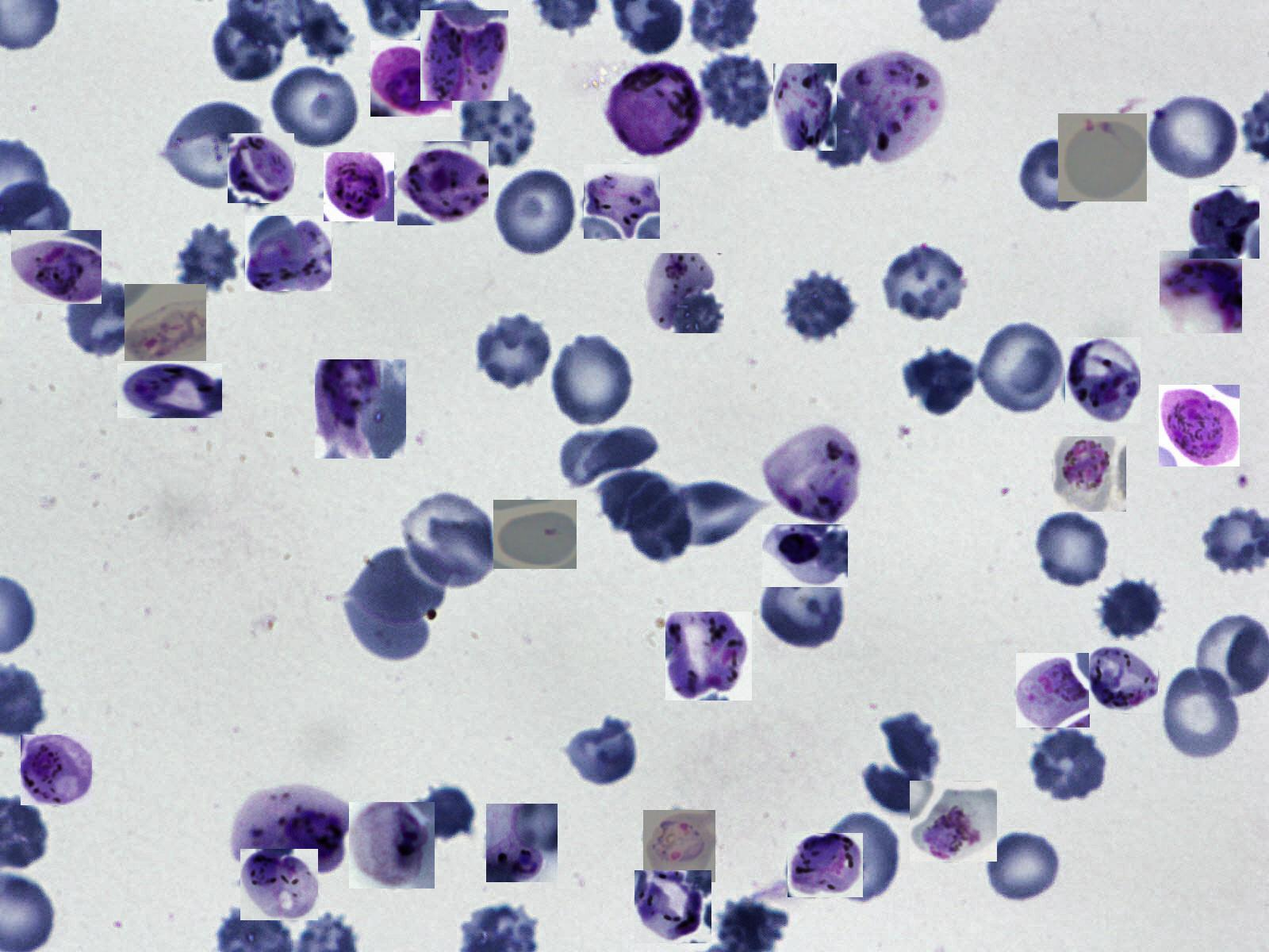Infected: (228, 785, 350, 877), (845, 48, 939, 167), (764, 421, 865, 526), (606, 56, 705, 159), (315, 359, 406, 459), (420, 10, 508, 101), (1058, 113, 1147, 202), (665, 612, 752, 701), (397, 141, 489, 225), (349, 802, 435, 889), (910, 781, 997, 862), (11, 230, 102, 304), (1160, 251, 1242, 333), (1159, 385, 1240, 466), (1065, 337, 1141, 423), (245, 216, 332, 291), (370, 40, 452, 117), (646, 253, 724, 333), (125, 284, 206, 361), (493, 500, 577, 569), (117, 363, 222, 418), (584, 164, 660, 239), (773, 63, 837, 151), (634, 870, 711, 943), (486, 804, 558, 882), (1053, 436, 1126, 512), (240, 849, 318, 920), (1016, 653, 1090, 727), (763, 524, 848, 587), (643, 810, 715, 882), (1189, 186, 1259, 259), (21, 735, 92, 805), (1089, 641, 1158, 713), (324, 152, 394, 221), (788, 833, 863, 897), (228, 133, 294, 203)
Uninfected: (159, 100, 266, 194), (404, 489, 499, 589), (1144, 91, 1242, 184), (639, 479, 768, 547), (548, 331, 637, 428), (1160, 662, 1245, 763), (976, 320, 1068, 413), (345, 571, 435, 666), (355, 540, 453, 626), (270, 63, 363, 150), (820, 809, 904, 904), (493, 167, 579, 259), (453, 85, 542, 171), (758, 566, 844, 651), (880, 242, 972, 321), (560, 424, 664, 490), (473, 309, 554, 392), (1032, 512, 1112, 593), (1018, 135, 1099, 215), (985, 824, 1062, 908), (64, 277, 142, 359), (593, 467, 677, 541), (903, 342, 980, 420), (624, 478, 693, 565), (1030, 730, 1111, 803), (702, 48, 773, 129), (565, 715, 643, 788), (777, 271, 857, 340), (212, 11, 287, 82), (1097, 577, 1167, 643), (177, 221, 240, 294), (805, 96, 867, 169), (418, 783, 479, 844)
